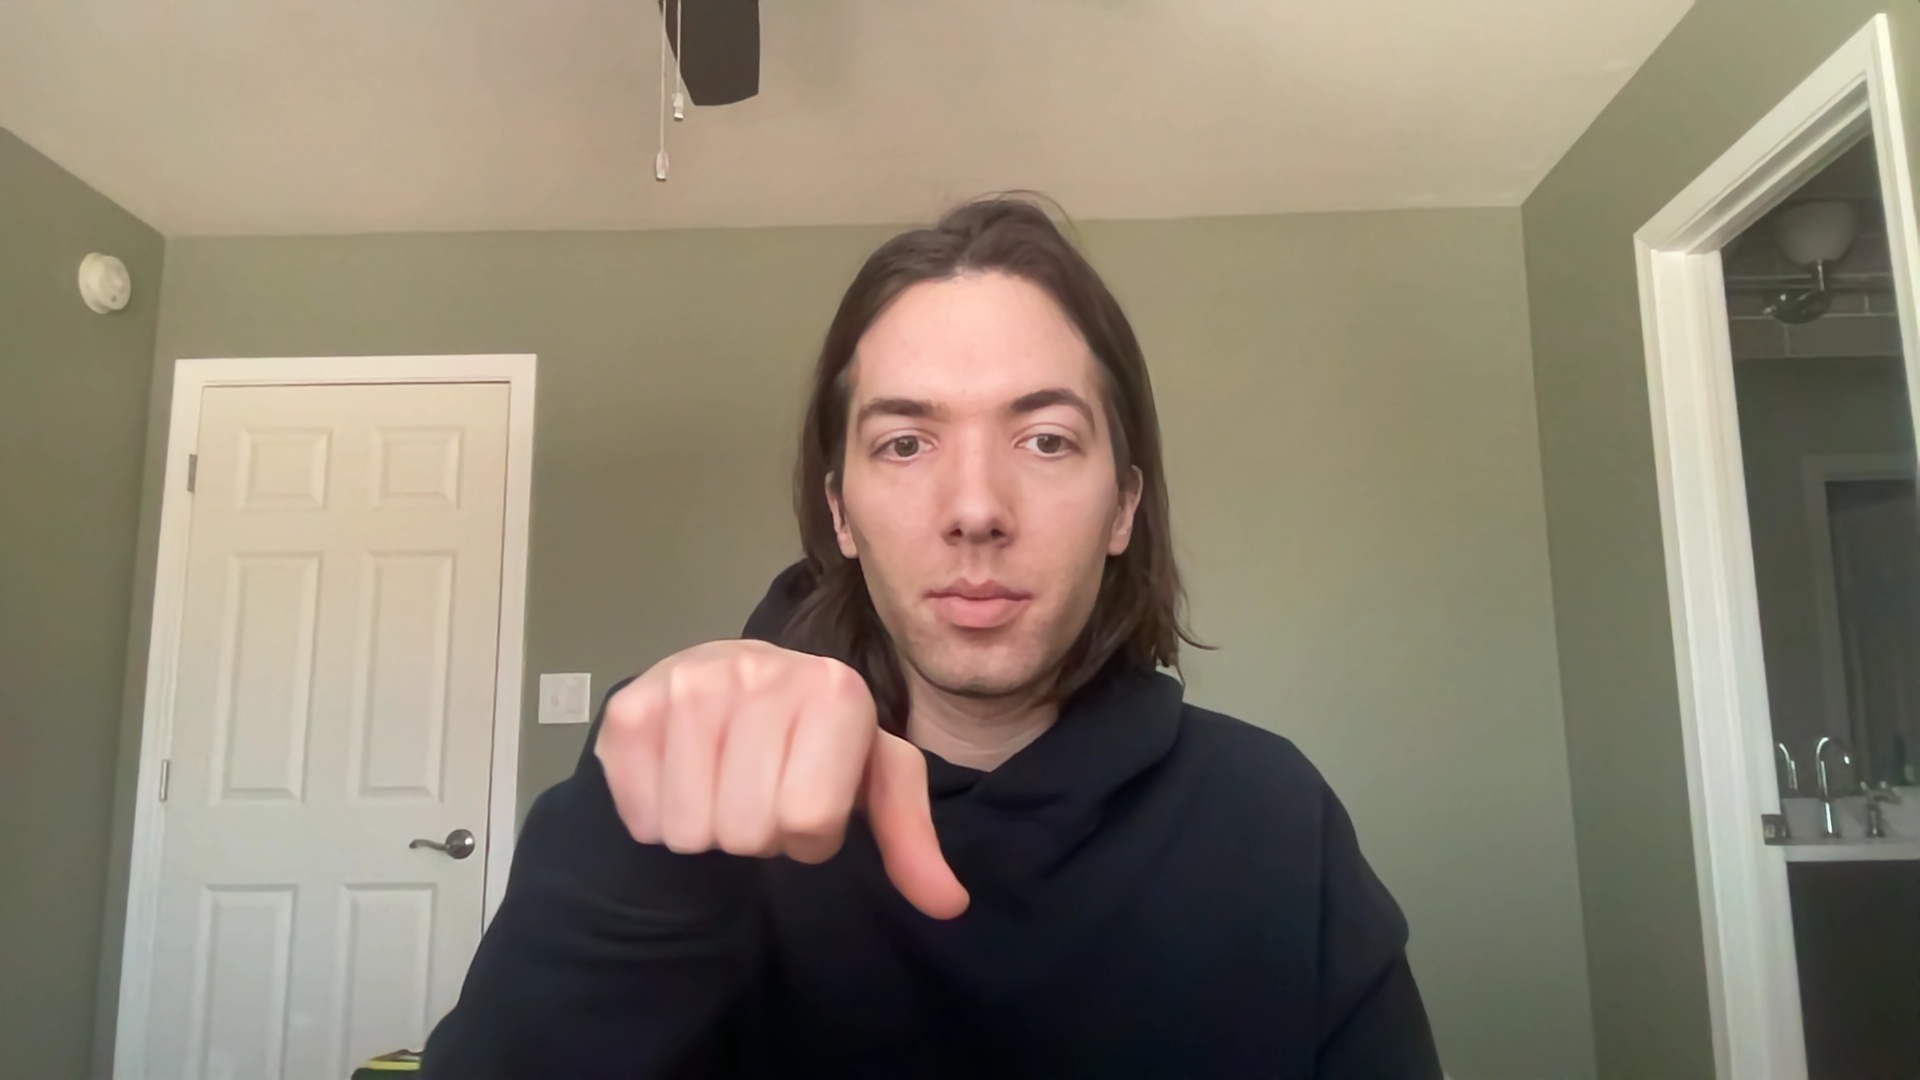Yes: (574, 622, 998, 948)
